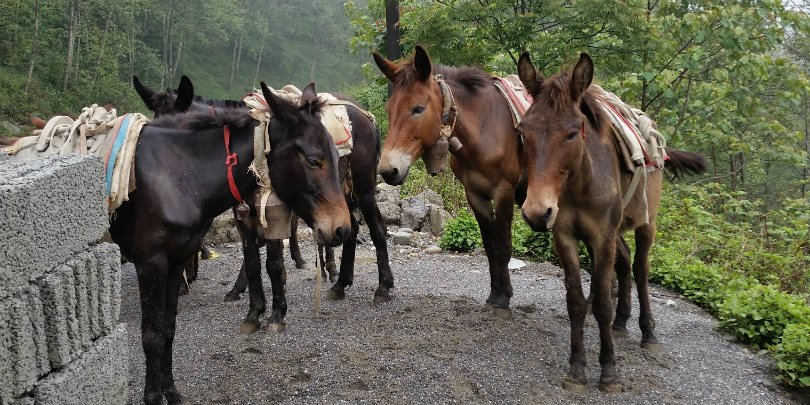equine: (1, 67, 368, 405), (359, 35, 695, 318), (486, 38, 693, 394)
